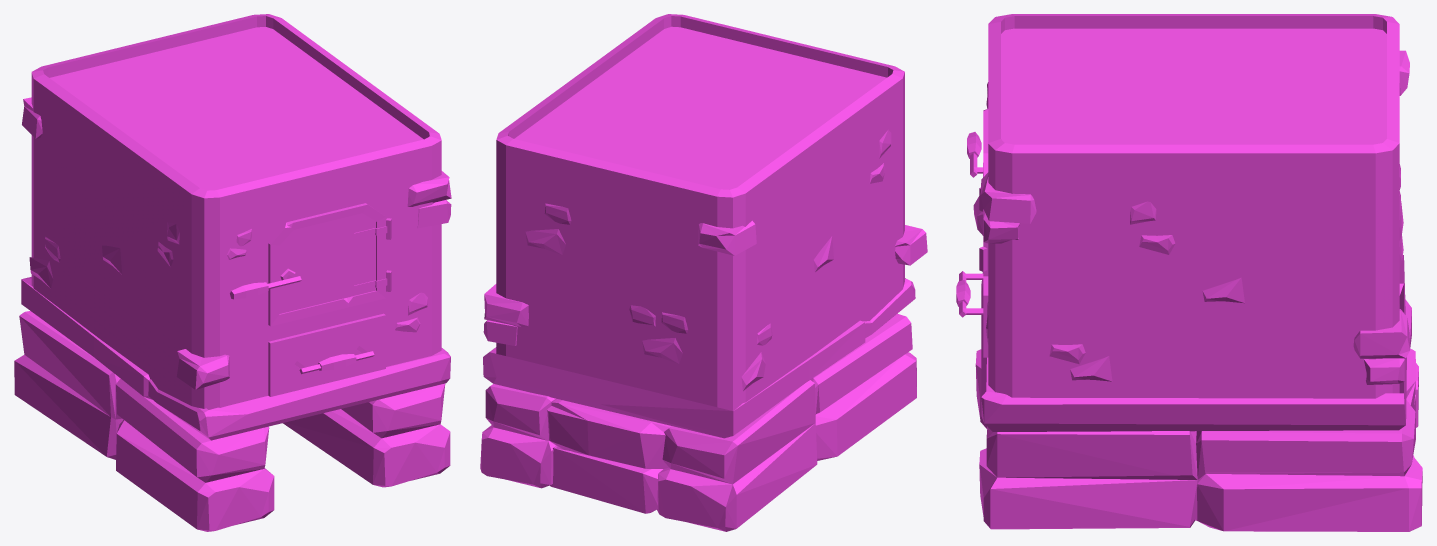
File: SM_Cooking_Stove_Fantasy.fbx
The picture shows the model from 3 angles, left to right: view 1: azimuth 30°, elevation 25°; view 2: azimuth 150°, elevation 25°; view 3: azimuth 270°, elevation 25°; orthographic projection. The views are drawn at different scales.
Parts seen in each view (by area): view 1: SM_Cooking_Stove_Fantasy_Base, SM_Cooking_Stove_Fantasy_Door; view 2: SM_Cooking_Stove_Fantasy_Base; view 3: SM_Cooking_Stove_Fantasy_Base.
Part boxes in pixels (box(x1,y1,x2,y2)): SM_Cooking_Stove_Fantasy_Base: box(14, 14, 451, 531); SM_Cooking_Stove_Fantasy_Door: box(230, 213, 387, 313); SM_Cooking_Stove_Fantasy_Base: box(480, 14, 927, 531); SM_Cooking_Stove_Fantasy_Base: box(956, 14, 1422, 531).
Bounding box in the file's own units: 1.04 × 1.25 × 1.37.
